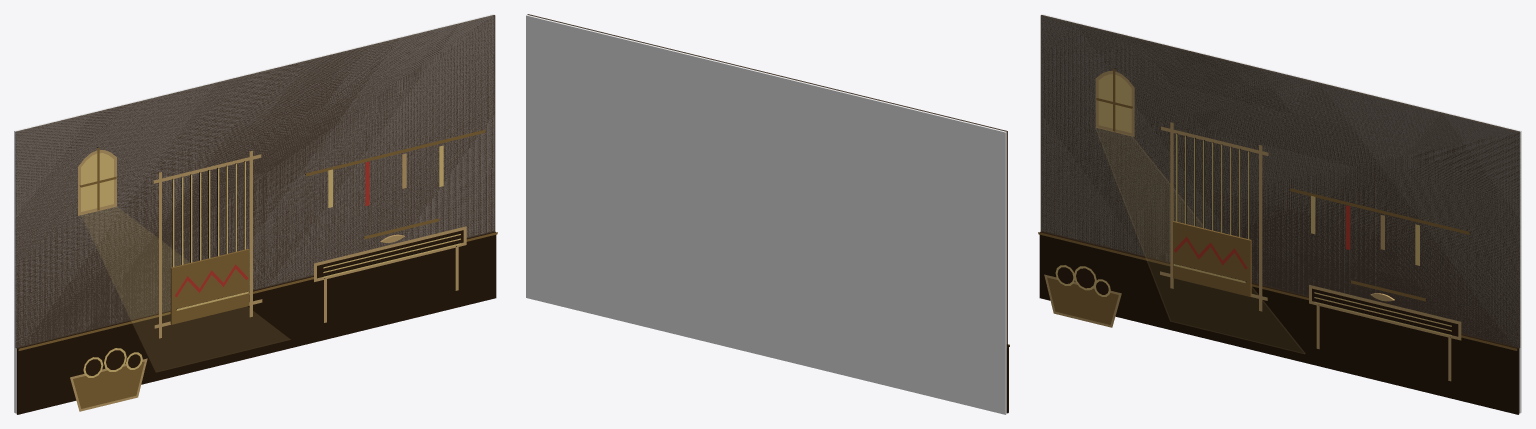
File: loc-tkatskaya-masterskaya.glb
3 views of the same model, side by side, from view 1: azimuth 30°, elevation 25°; view 2: azimuth 150°, elevation 25°; view 3: azimuth 330°, elevation 25° (orthographic).
Visible parts, largest first — view 1: loc-tkatskaya-masterskaya; view 2: loc-tkatskaya-masterskaya; view 3: loc-tkatskaya-masterskaya.
Boxes of the visible parts, x1=… form: loc-tkatskaya-masterskaya: x1=14, y1=14, x2=497, y2=414; loc-tkatskaya-masterskaya: x1=526, y1=14, x2=1009, y2=414; loc-tkatskaya-masterskaya: x1=1038, y1=14, x2=1521, y2=414.
Bounding box in the file's own units: 5.33 × 3 × 0.581.
